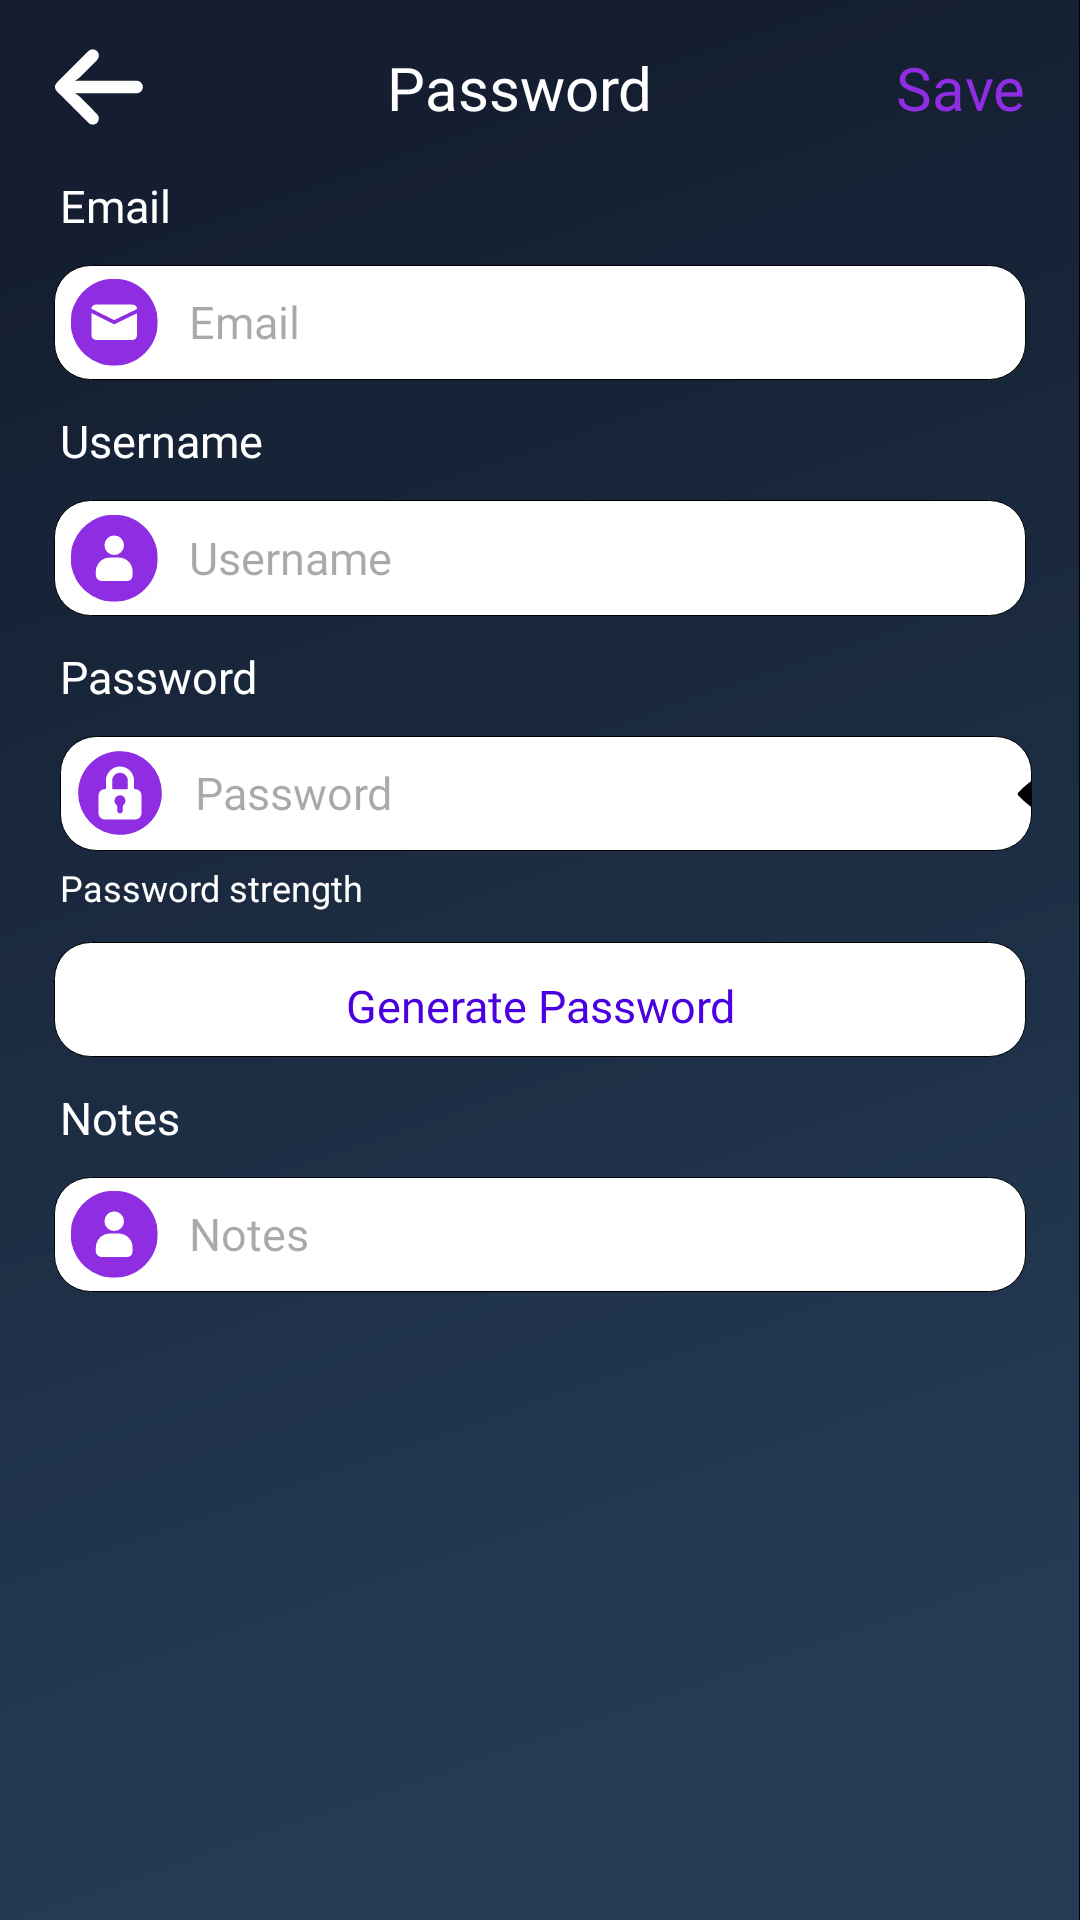

Where icons sit on this 1080w x 1920h app screen, as BBox(x1, y1, x2, y2):
buttonkembali: BBox(55, 49, 143, 125)
